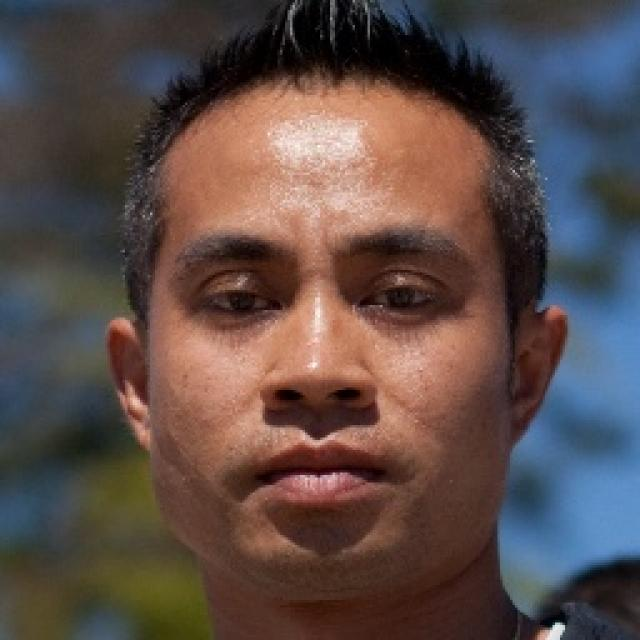earlobe: (507, 305, 569, 444), (104, 315, 150, 452)
